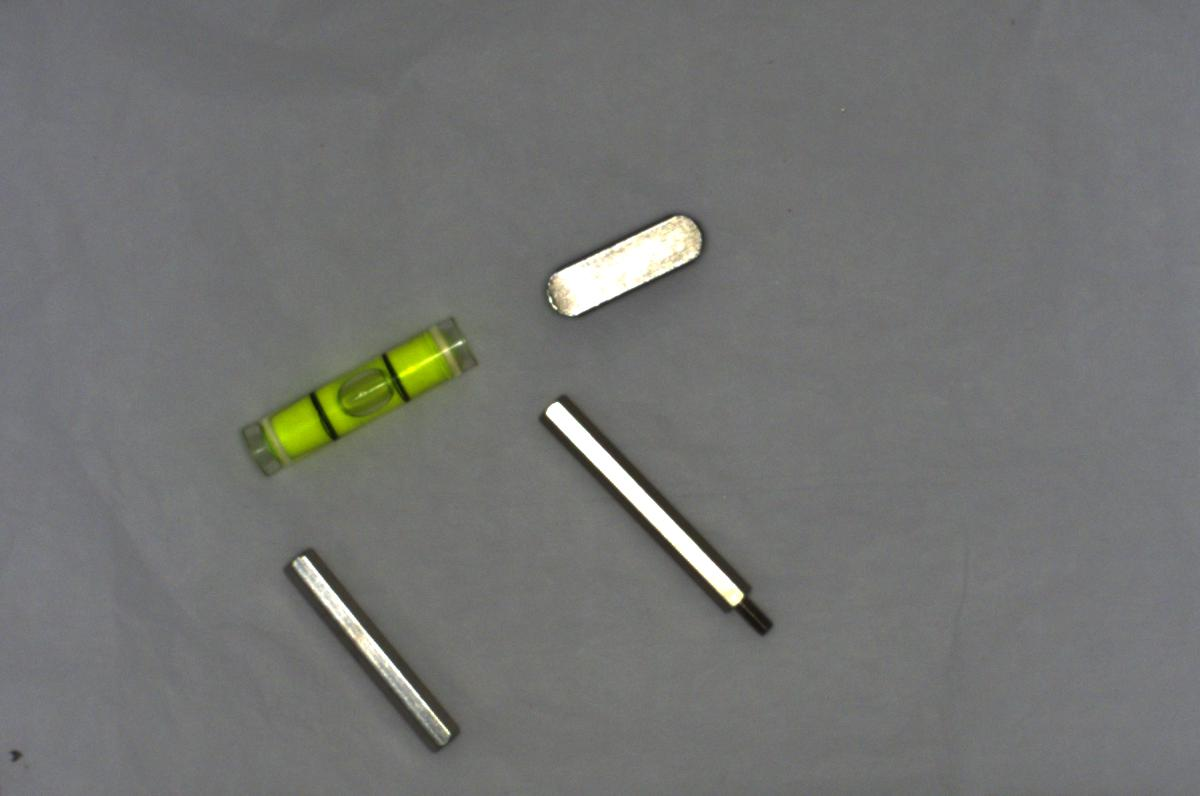Double hexagonal column: (279, 539, 454, 758)
Hexagonal steel column: (527, 381, 771, 635)
Horizontal bubble: (231, 303, 484, 483)
Keybar: (528, 206, 714, 320)
